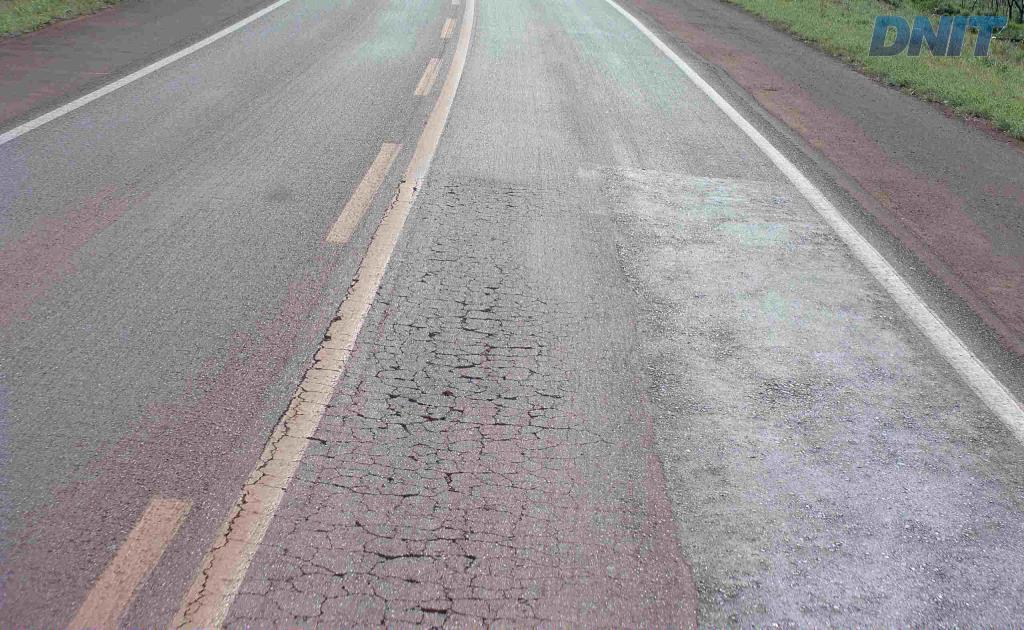crack: (362, 527, 478, 574), (381, 387, 465, 435)
